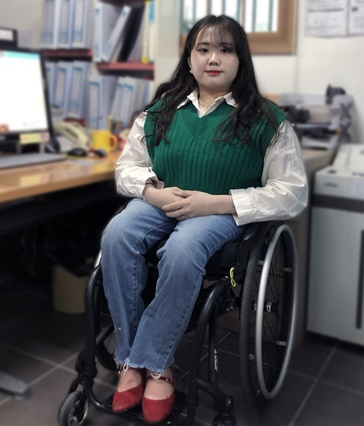wheelchair: (57, 14, 309, 426)
